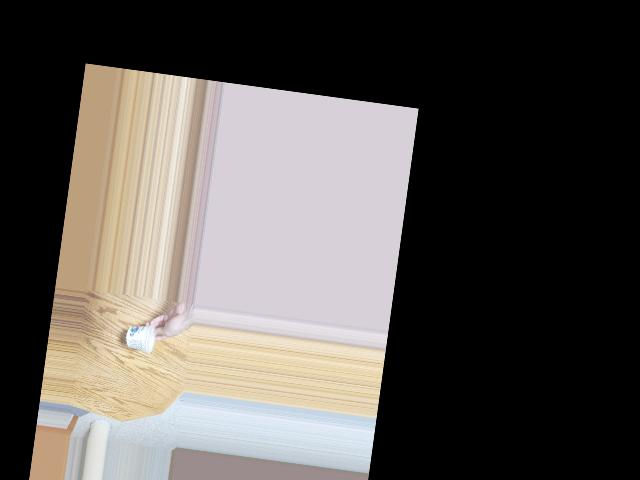cotage: (125, 319, 162, 358)
